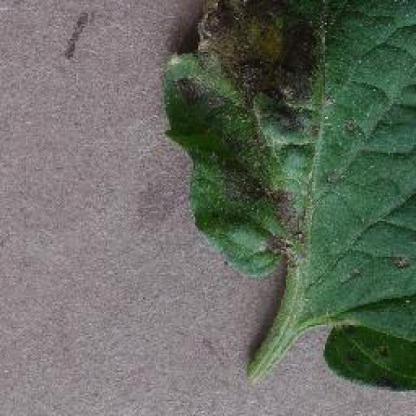Tomato_Blight: (161, 1, 416, 390)
